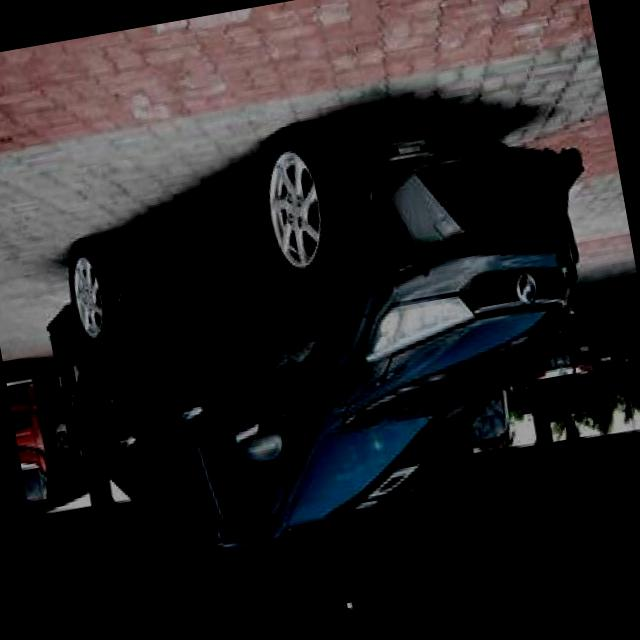PeroduaBezza: (19, 92, 632, 578)
